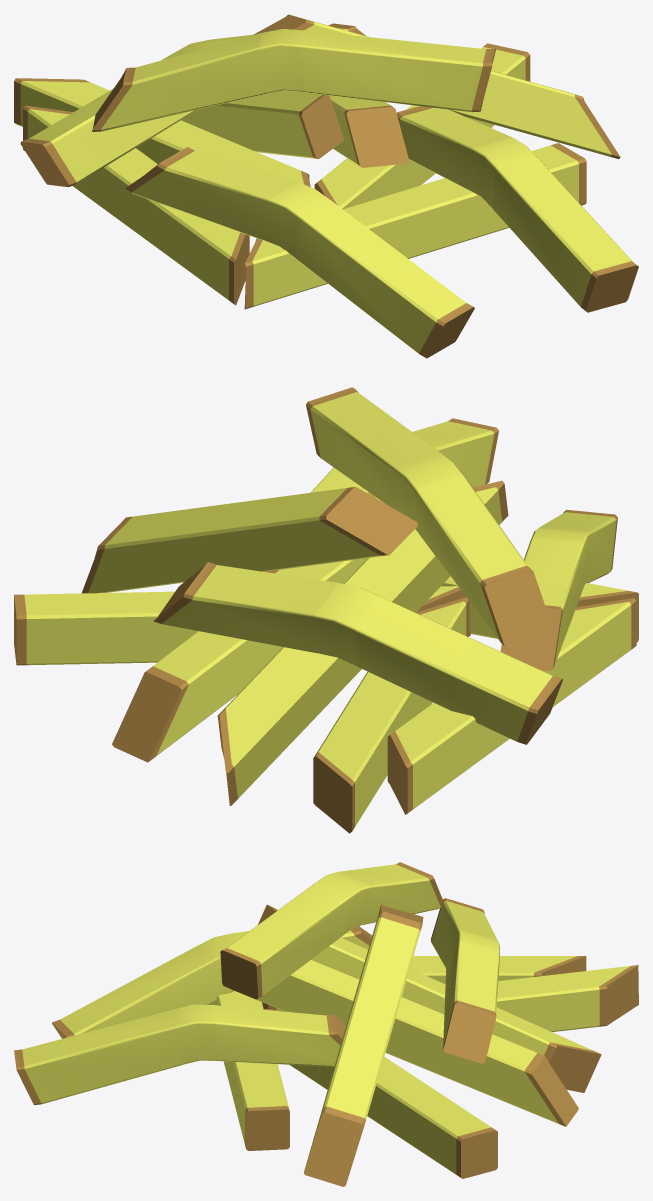
Rendered from FriesServing.fbx.
3 renders of one model, top to bottom at view 1: azimuth 30°, elevation 25°; view 2: azimuth 150°, elevation 25°; view 3: azimuth 270°, elevation 25°, orthographic. The views are drawn at different scales.
Parts seen in each view (by area): view 1: pCube15, pCube1, pCube11, pCube9, pCube4, pCube13, pCube12, pCube14, pCube8, pCube3, pCube10; view 2: pCube14, pCube15, pCube12, pCube13, pCube4, pCube10, pCube3, pCube8, pCube1, pCube11, pCube9; view 3: pCube11, pCube10, pCube15, pCube12, pCube3, pCube14, pCube1, pCube8, pCube13, pCube9, pCube4.
Part boxes in pixels (<box>): pCube15: <box>92,29,495,131</box>; pCube1: <box>125,147,474,358</box>; pCube11: <box>396,106,638,312</box>; pCube9: <box>244,143,586,309</box>; pCube4: <box>23,105,249,305</box>; pCube13: <box>181,90,343,158</box>; pCube12: <box>252,14,620,159</box>; pCube14: <box>20,23,365,187</box>; pCube8: <box>14,78,310,187</box>; pCube3: <box>314,43,530,209</box>; pCube10: <box>330,95,409,167</box>; pCube14: <box>153,562,562,744</box>; pCube15: <box>306,387,553,647</box>; pCube12: <box>82,487,417,593</box>; pCube13: <box>217,480,508,805</box>; pCube4: <box>387,598,636,814</box>; pCube10: <box>112,497,383,762</box>; pCube3: <box>14,586,470,665</box>; pCube8: <box>313,597,468,833</box>; pCube1: <box>500,509,617,670</box>; pCube11: <box>265,418,498,573</box>; pCube9: <box>441,576,638,642</box>; pCube11: <box>14,1004,345,1104</box>; pCube10: <box>231,960,578,1126</box>; pCube15: <box>220,862,444,999</box>; pCube12: <box>304,904,423,1186</box>; pCube3: <box>264,1009,497,1178</box>; pCube14: <box>430,898,499,1063</box>; pCube1: <box>52,926,372,1038</box>; pCube8: <box>496,965,638,1031</box>; pCube13: <box>258,904,601,1092</box>; pCube9: <box>209,991,289,1150</box>; pCube4: <box>262,956,586,1010</box>.
Bounding box in the file's own units: 0.0686 × 0.0292 × 0.0852.
